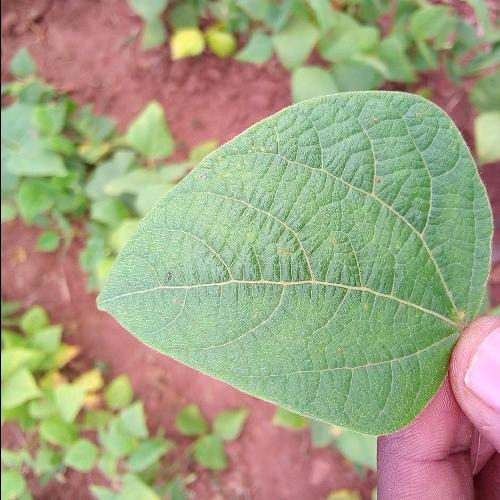mozaik: (182, 174, 440, 347), (242, 132, 282, 165)
